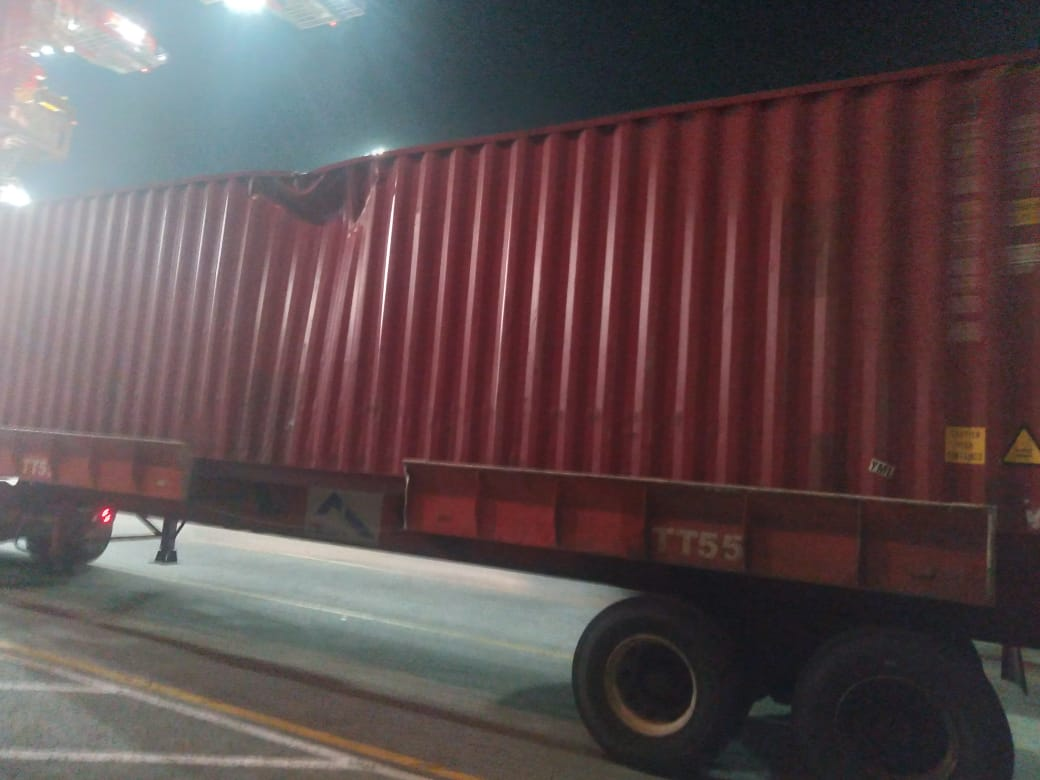dented: (245, 164, 416, 243)
